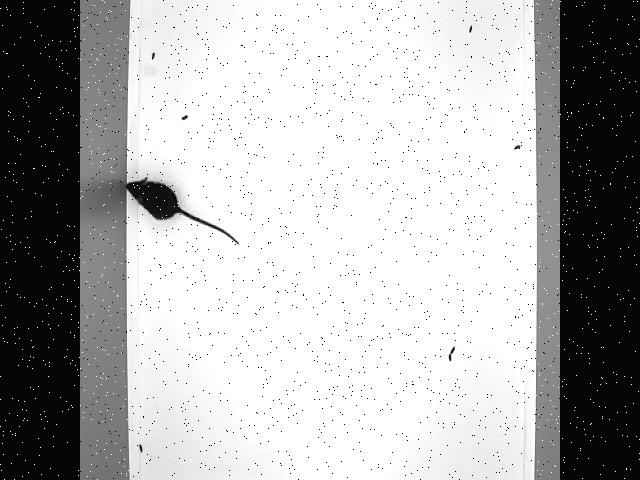Tikus: (125, 176, 239, 244)
